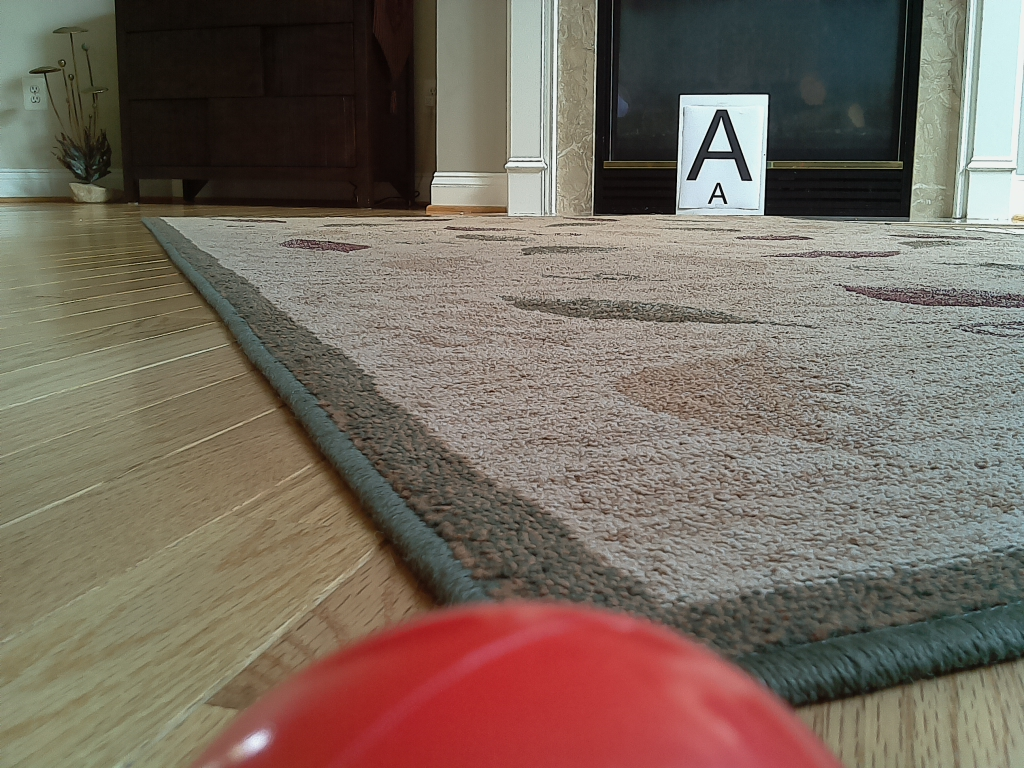letter: (686, 110, 750, 182)
